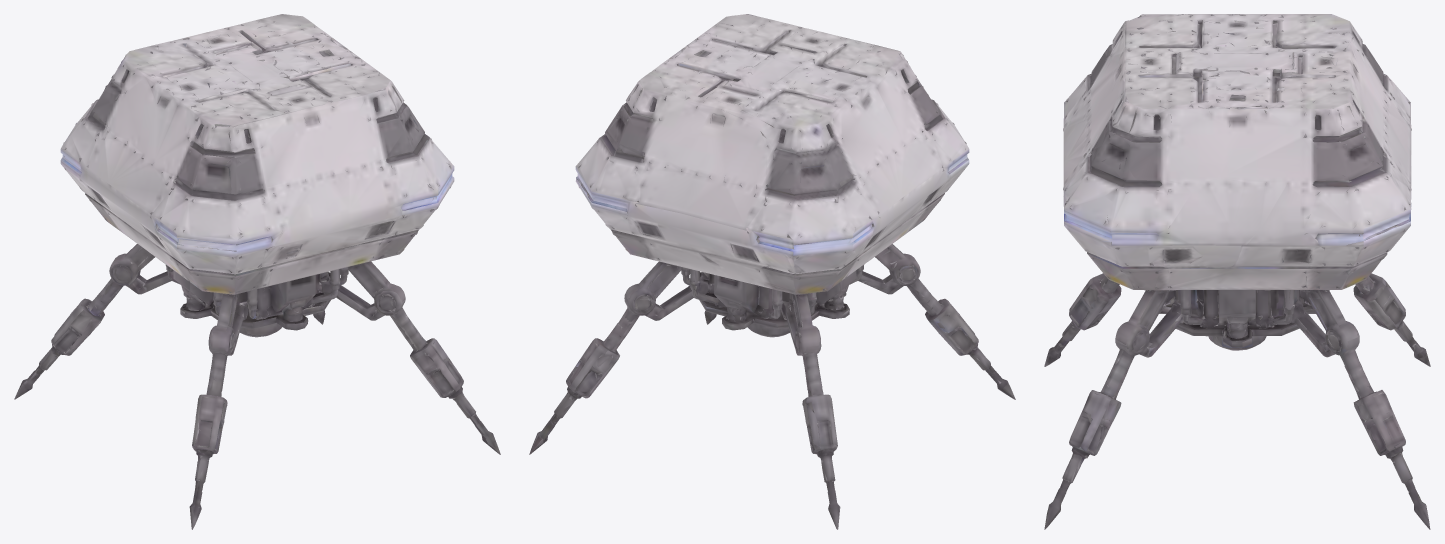
Rendered from drone-DNFx31fC.glb.
3 renders of one model, left to right at view 1: azimuth 30°, elevation 25°; view 2: azimuth 150°, elevation 25°; view 3: azimuth 270°, elevation 25°, orthographic. The views are drawn at different scales.
Parts seen in each view (by area): view 1: Mesh_0; view 2: Mesh_0; view 3: Mesh_0.
Part boxes in pixels (bbox=[...]): Mesh_0: bbox=[14, 14, 500, 529]; Mesh_0: bbox=[529, 14, 1015, 529]; Mesh_0: bbox=[1044, 14, 1430, 529].
Size of the model in its own units: 1.72 by 1.91 by 1.72.
1 material, 1 textured.
